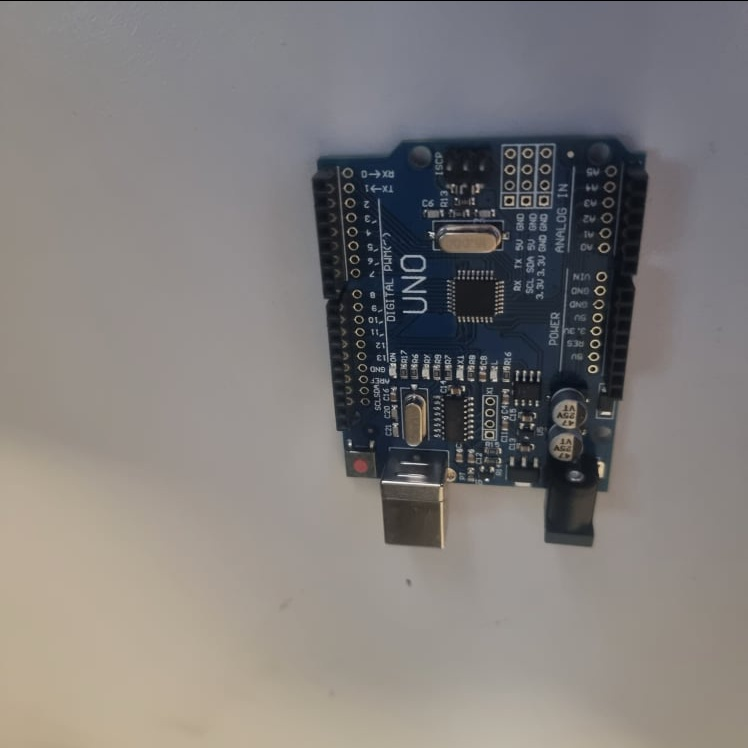UNO R3: (309, 126, 651, 552)
